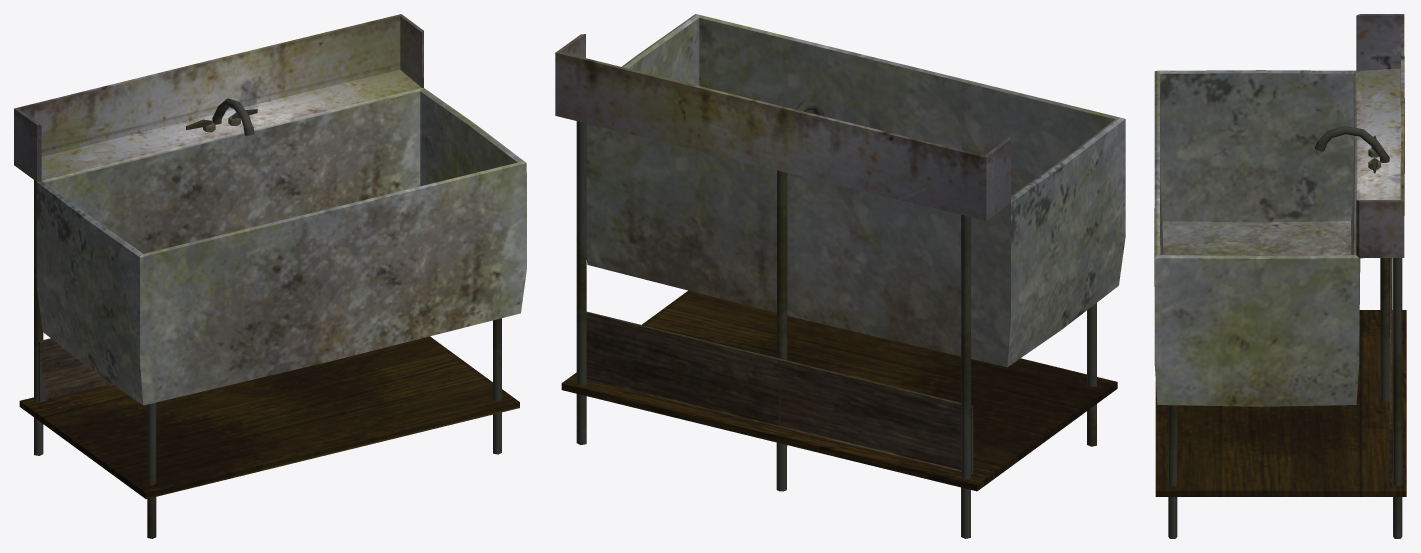
The model's file is Prop_SinkHuge_model.fbx.
The picture shows the model from 3 angles, left to right: view 1: azimuth 30°, elevation 25°; view 2: azimuth 150°, elevation 25°; view 3: azimuth 270°, elevation 25°; orthographic projection. The views are drawn at different scales.
Parts seen in each view (by area): view 1: Prop_SinkHuge; view 2: Prop_SinkHuge; view 3: Prop_SinkHuge.
Boxes of the visible parts, x1,y1,x2,y2 form: Prop_SinkHuge: [14, 14, 526, 538]; Prop_SinkHuge: [555, 14, 1125, 538]; Prop_SinkHuge: [1154, 14, 1406, 538].
Size of the model in its own units: 83.47 by 72.04 by 47.09.
